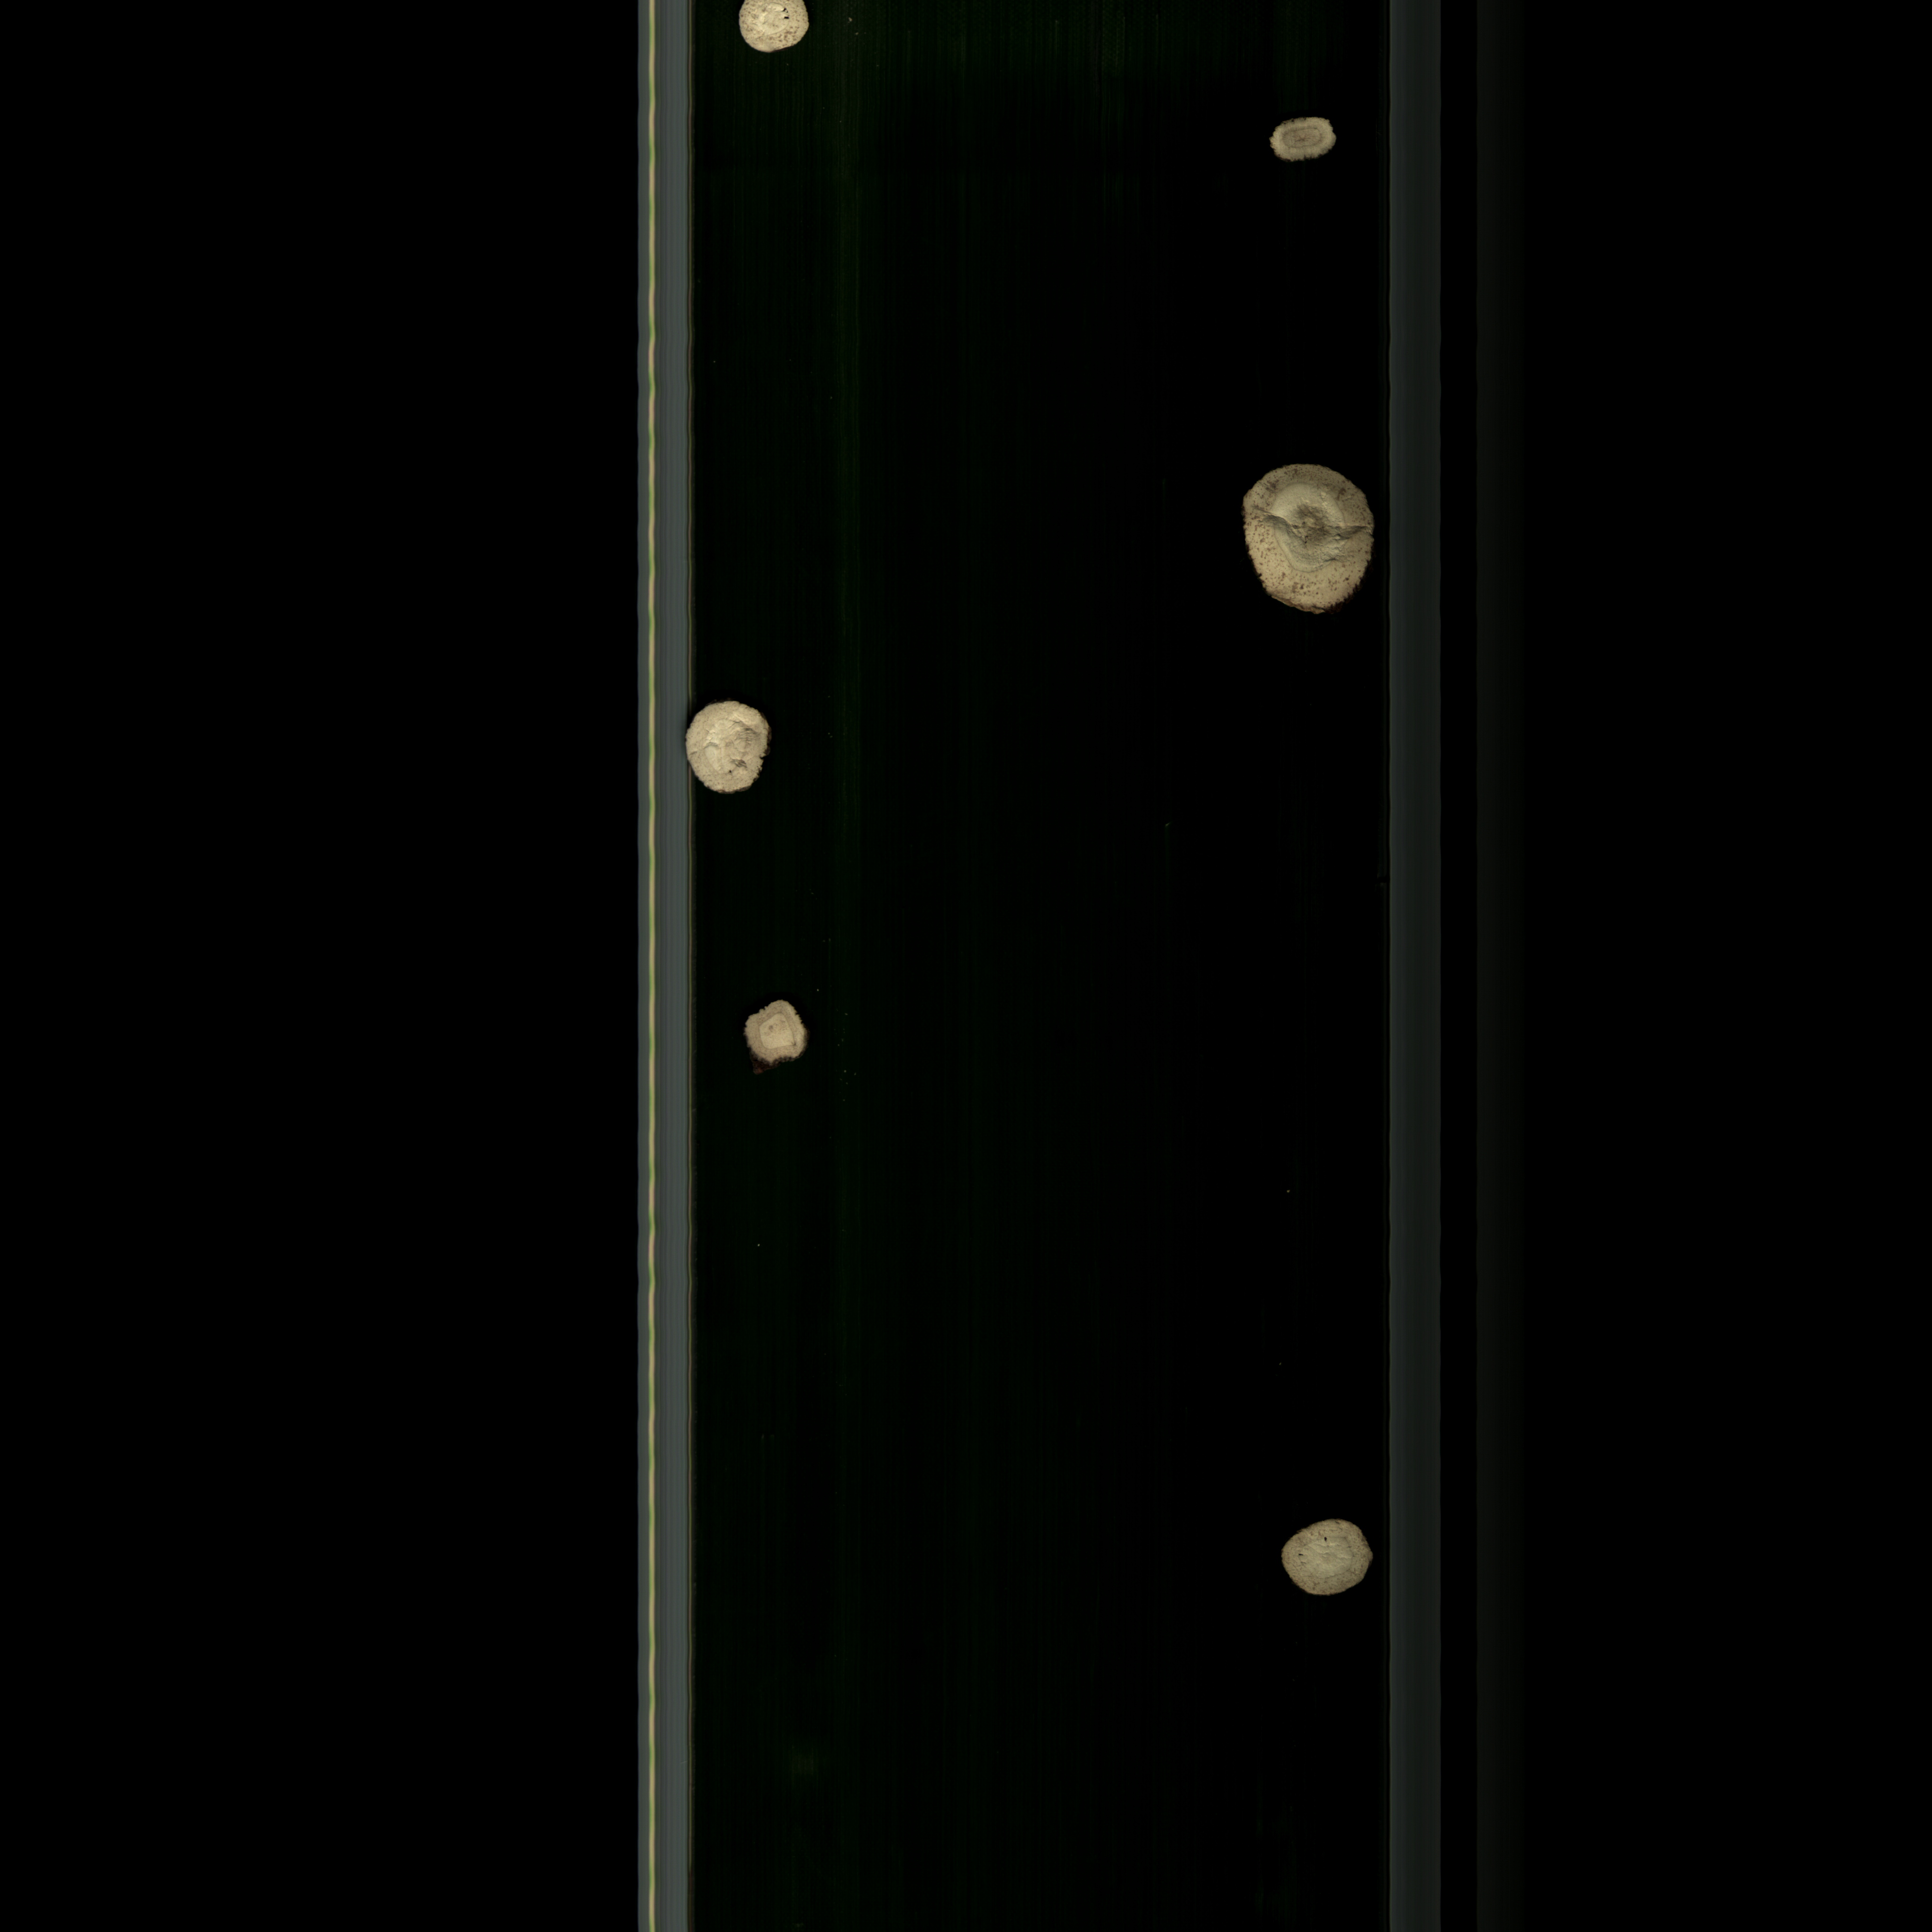hole: (1277, 1514, 1376, 1605), (724, 0, 826, 62)
moldy: (1224, 464, 1369, 630), (720, 991, 819, 1081), (1254, 111, 1350, 182)
